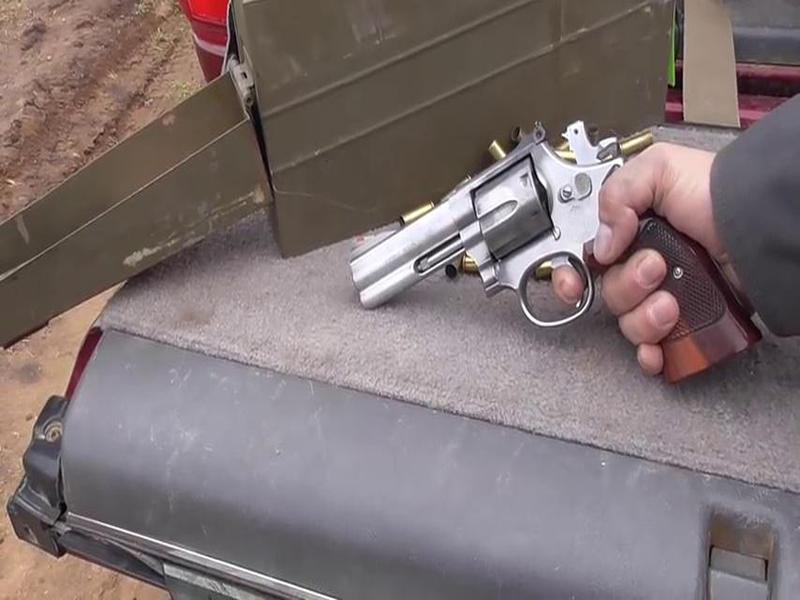Revolver: (346, 98, 754, 392)
